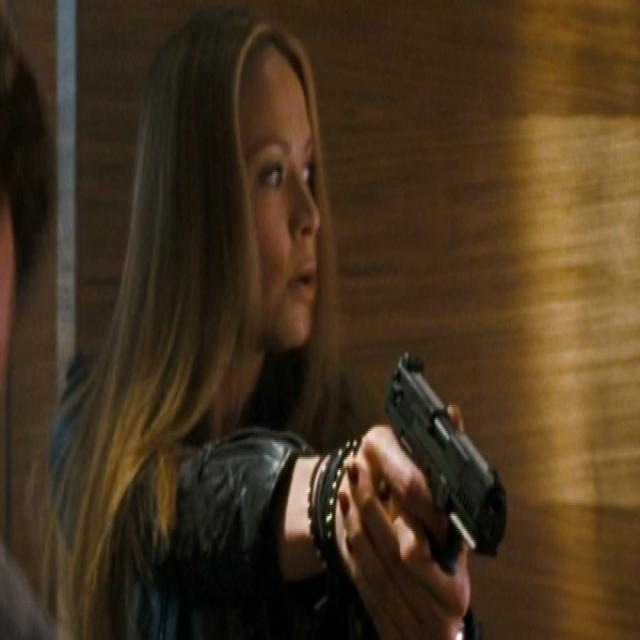weapons: (357, 321, 530, 627)
